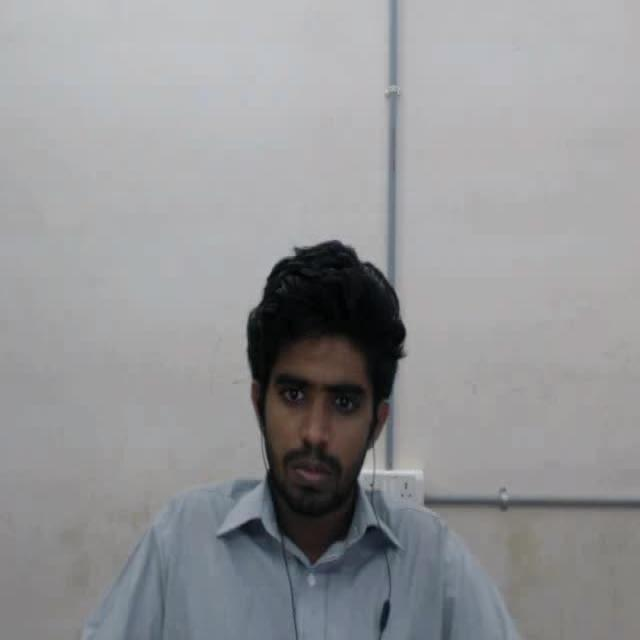Engaged: (232, 211, 423, 563)
